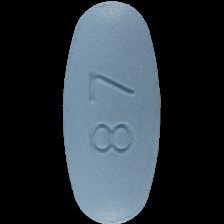31722-536: (0, 0, 224, 224)
